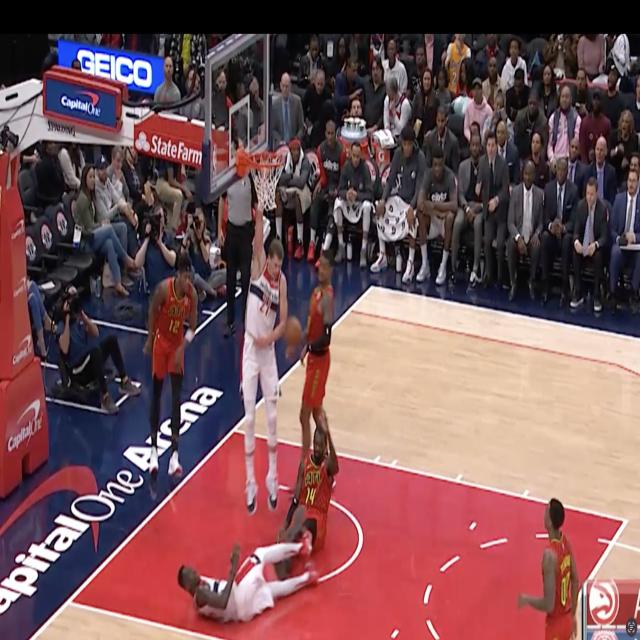foul: (172, 403, 360, 622)
